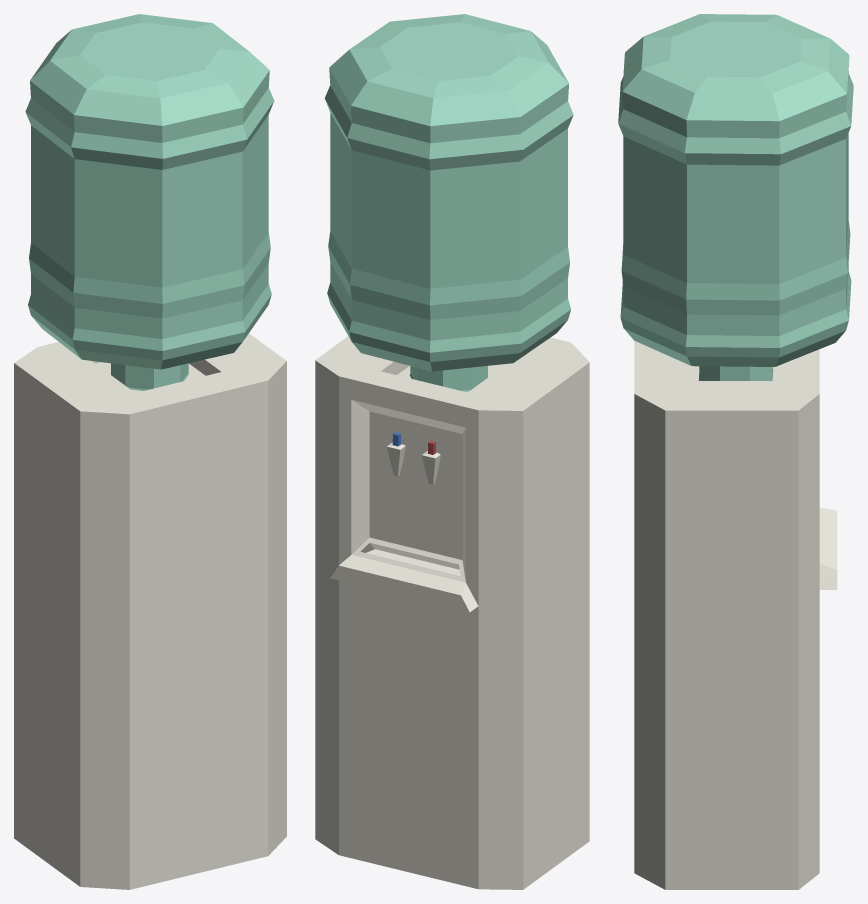
The model's file is watercooler.glb.
The picture shows the model from 3 angles, left to right: view 1: azimuth 30°, elevation 25°; view 2: azimuth 150°, elevation 25°; view 3: azimuth 270°, elevation 25°; orthographic projection.
Parts seen in each view (by area): view 1: Cube.004; view 2: Cube.004; view 3: Cube.004.
Part boxes in pixels (x1,y1,x2,y2): Cube.004: (14, 14, 286, 889); Cube.004: (315, 14, 589, 889); Cube.004: (618, 14, 853, 889).
Bounding box in the file's own units: 0.5268 × 1.91 × 0.5163.
1 material, 1 textured.
